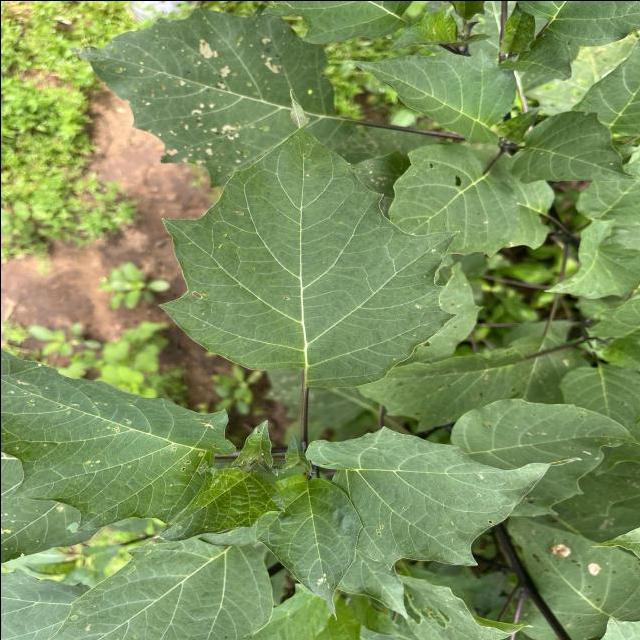Datura metal linn: (153, 84, 462, 400), (0, 345, 238, 537), (302, 420, 584, 576), (248, 473, 364, 624), (346, 46, 518, 146), (137, 462, 288, 553), (505, 110, 640, 186)
